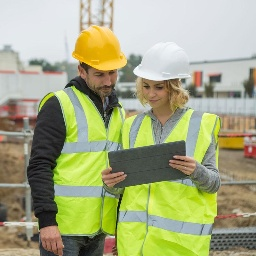helmet: (68, 27, 131, 72), (132, 44, 193, 84)
person: (27, 24, 132, 256), (124, 41, 223, 256)
vest: (121, 107, 221, 252), (54, 85, 128, 229)
